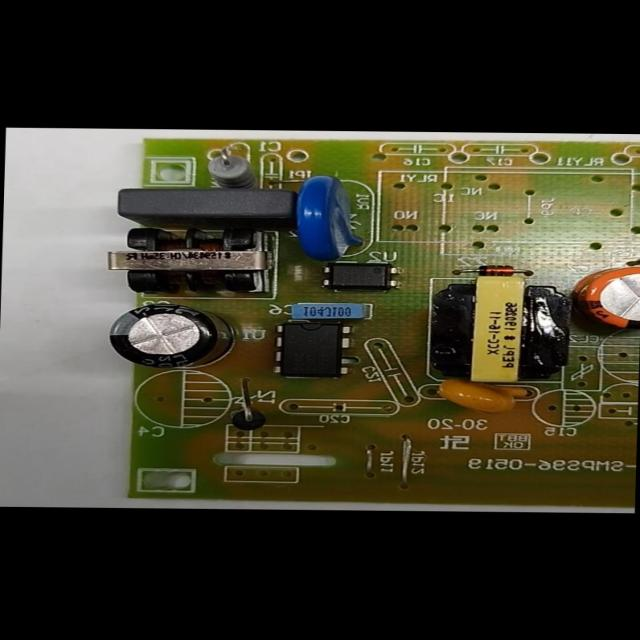Cap1: (578, 268, 639, 330)
Cap3: (106, 306, 238, 368)
MOSFET: (273, 322, 352, 373)
Mov: (293, 174, 361, 261)
Resistor: (203, 151, 261, 186)
Transformer: (429, 274, 573, 386), (104, 224, 270, 295)
